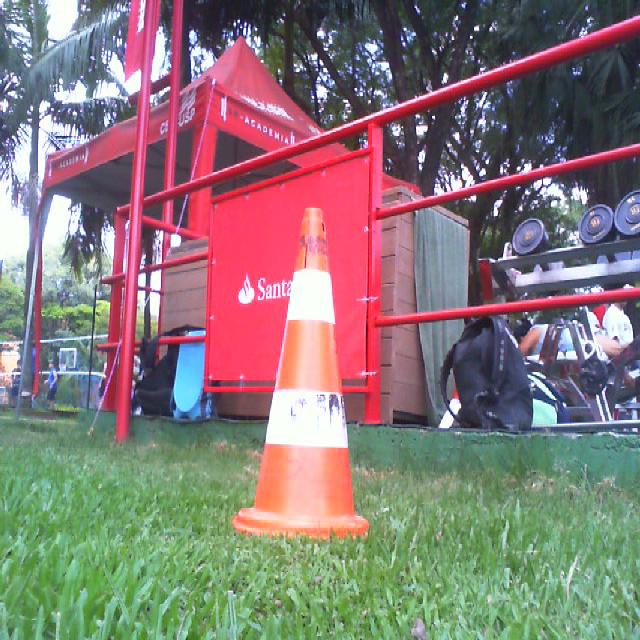cone: (232, 208, 369, 539)
